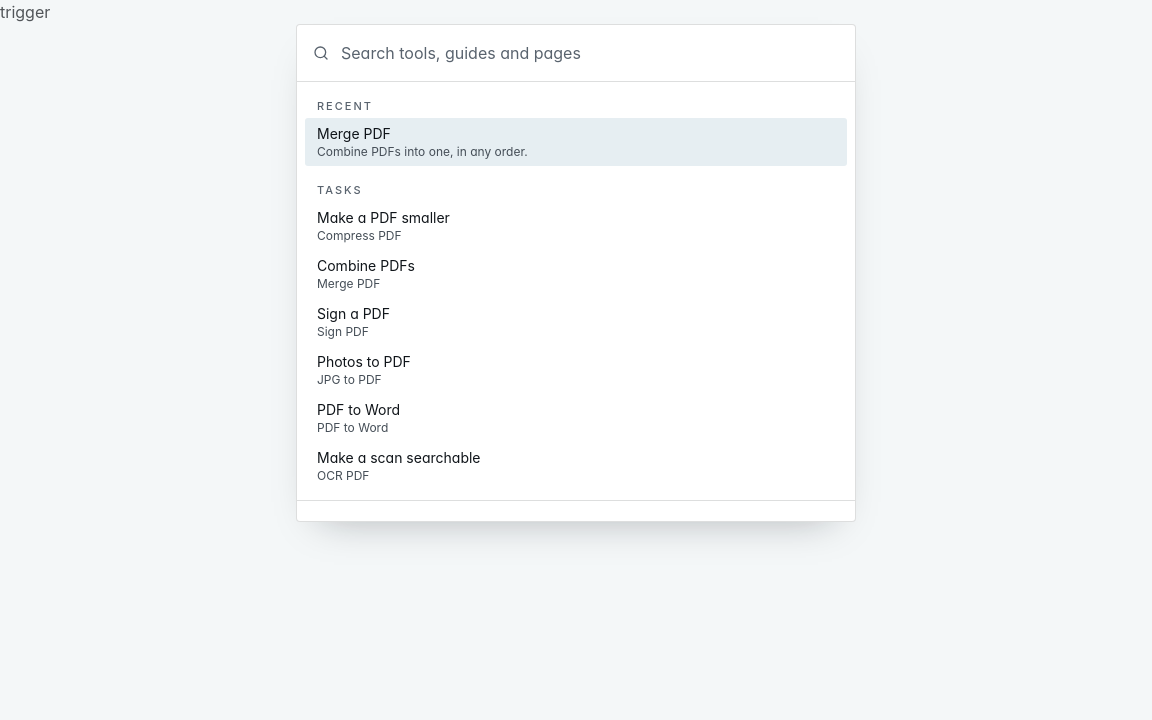
Test: the actions › Clear local history forgets recents
Type "clear local history" into the dropdown named "Find a tool or guide" at (590, 53), box left=341, top=25, right=839, bottom=81
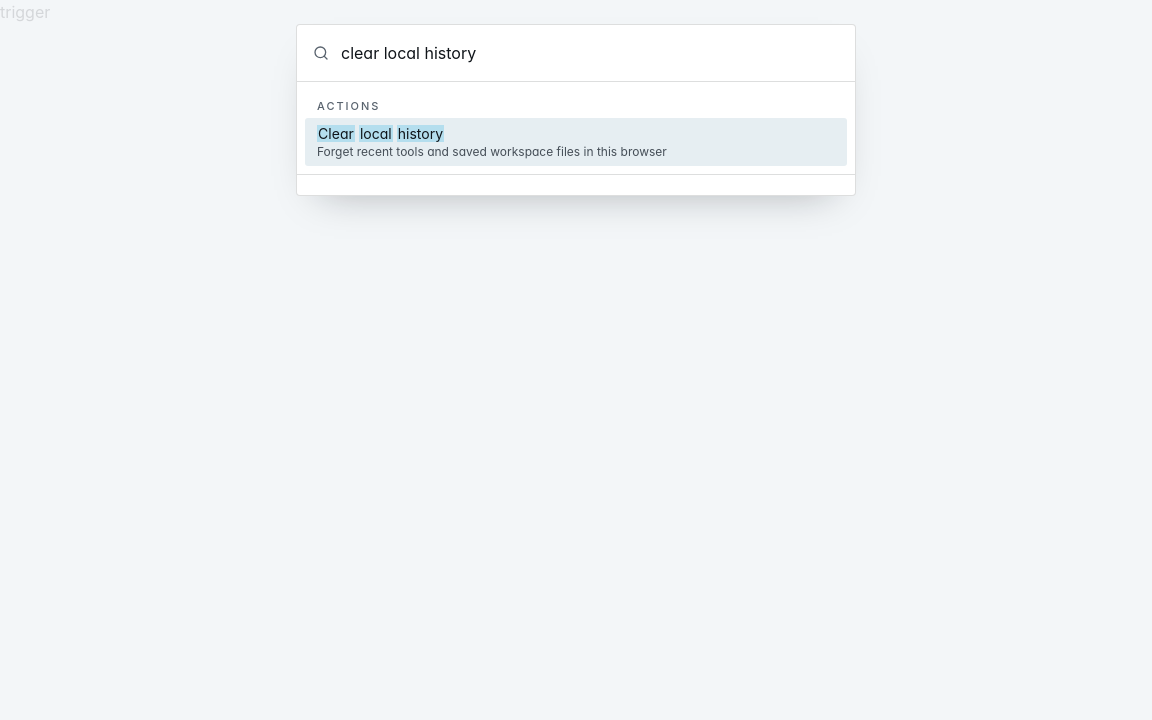
Press Enter in the dropdown named "Find a tool or guide", box left=341, top=25, right=839, bottom=81
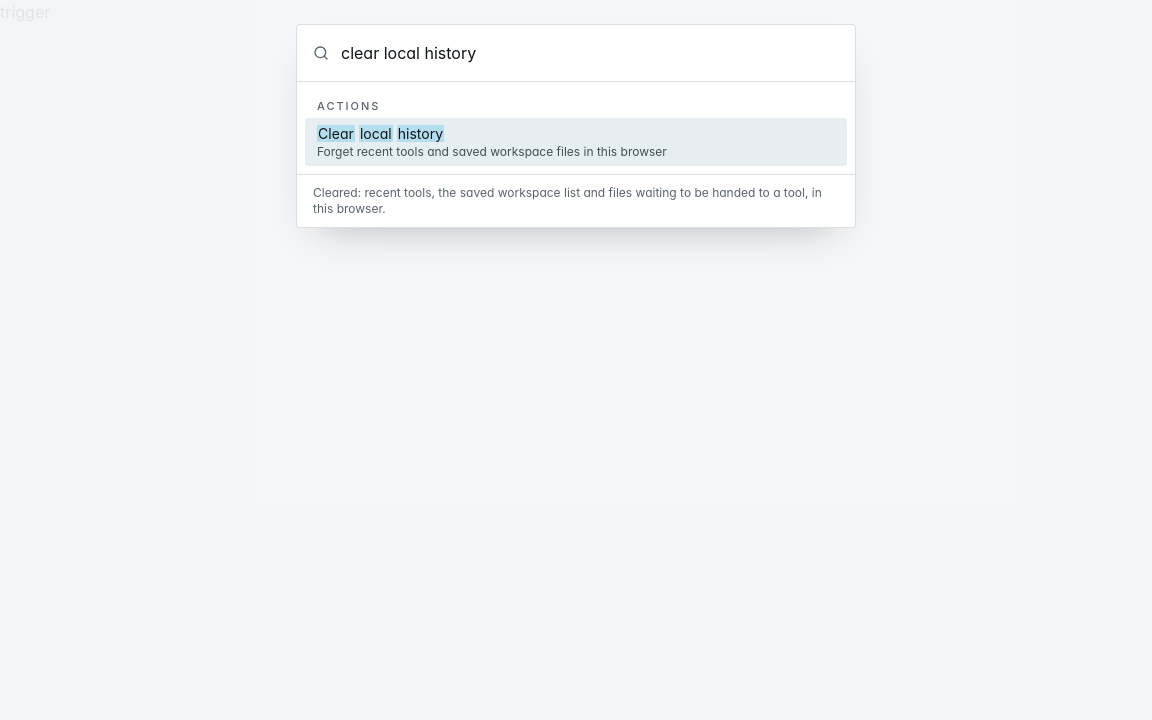
Expected: the message shows "Cleared", left=313, top=185, right=822, bottom=216
